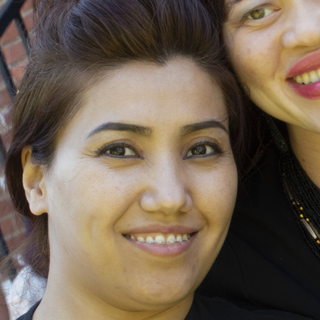eye: (94, 139, 145, 164), (236, 1, 282, 28), (179, 138, 225, 164)
